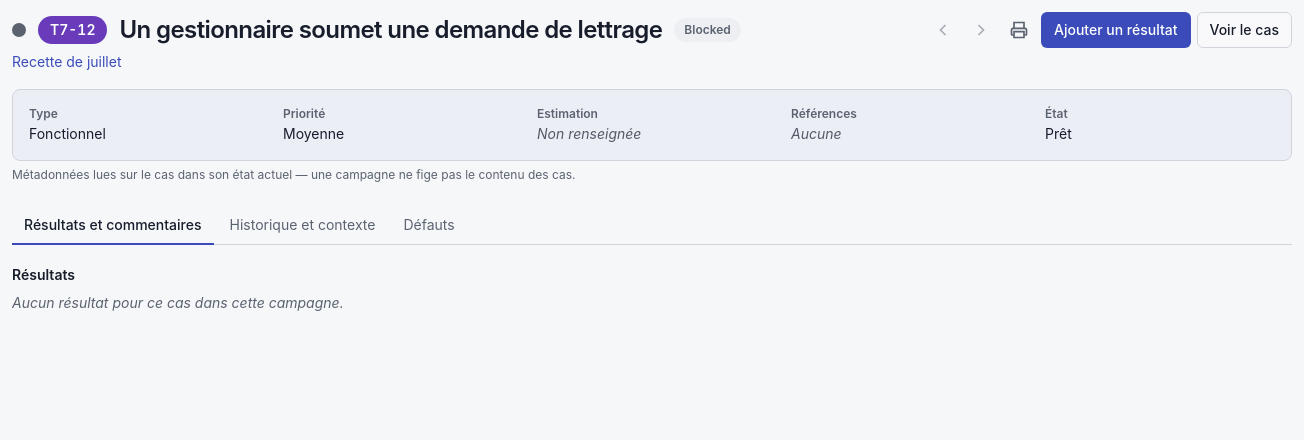
Test: RunTestDetail — onglet Défauts › dit honnêtement que rien n'est encore modélisé, sans compteur trompeur
Click the button "Défauts": (429, 226) [391,207,467,245]
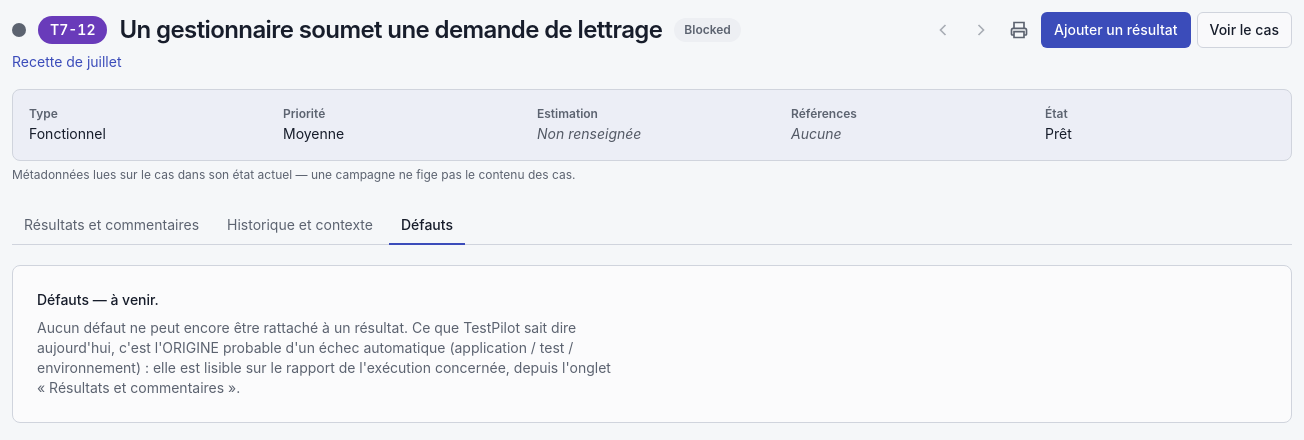
Expected: the text "Défauts — à venir." is shown, [37,291,159,308]
Expected: the text "Aucun défaut ne peut encore être rattaché à un résultat" is shown, [37,319,611,396]
